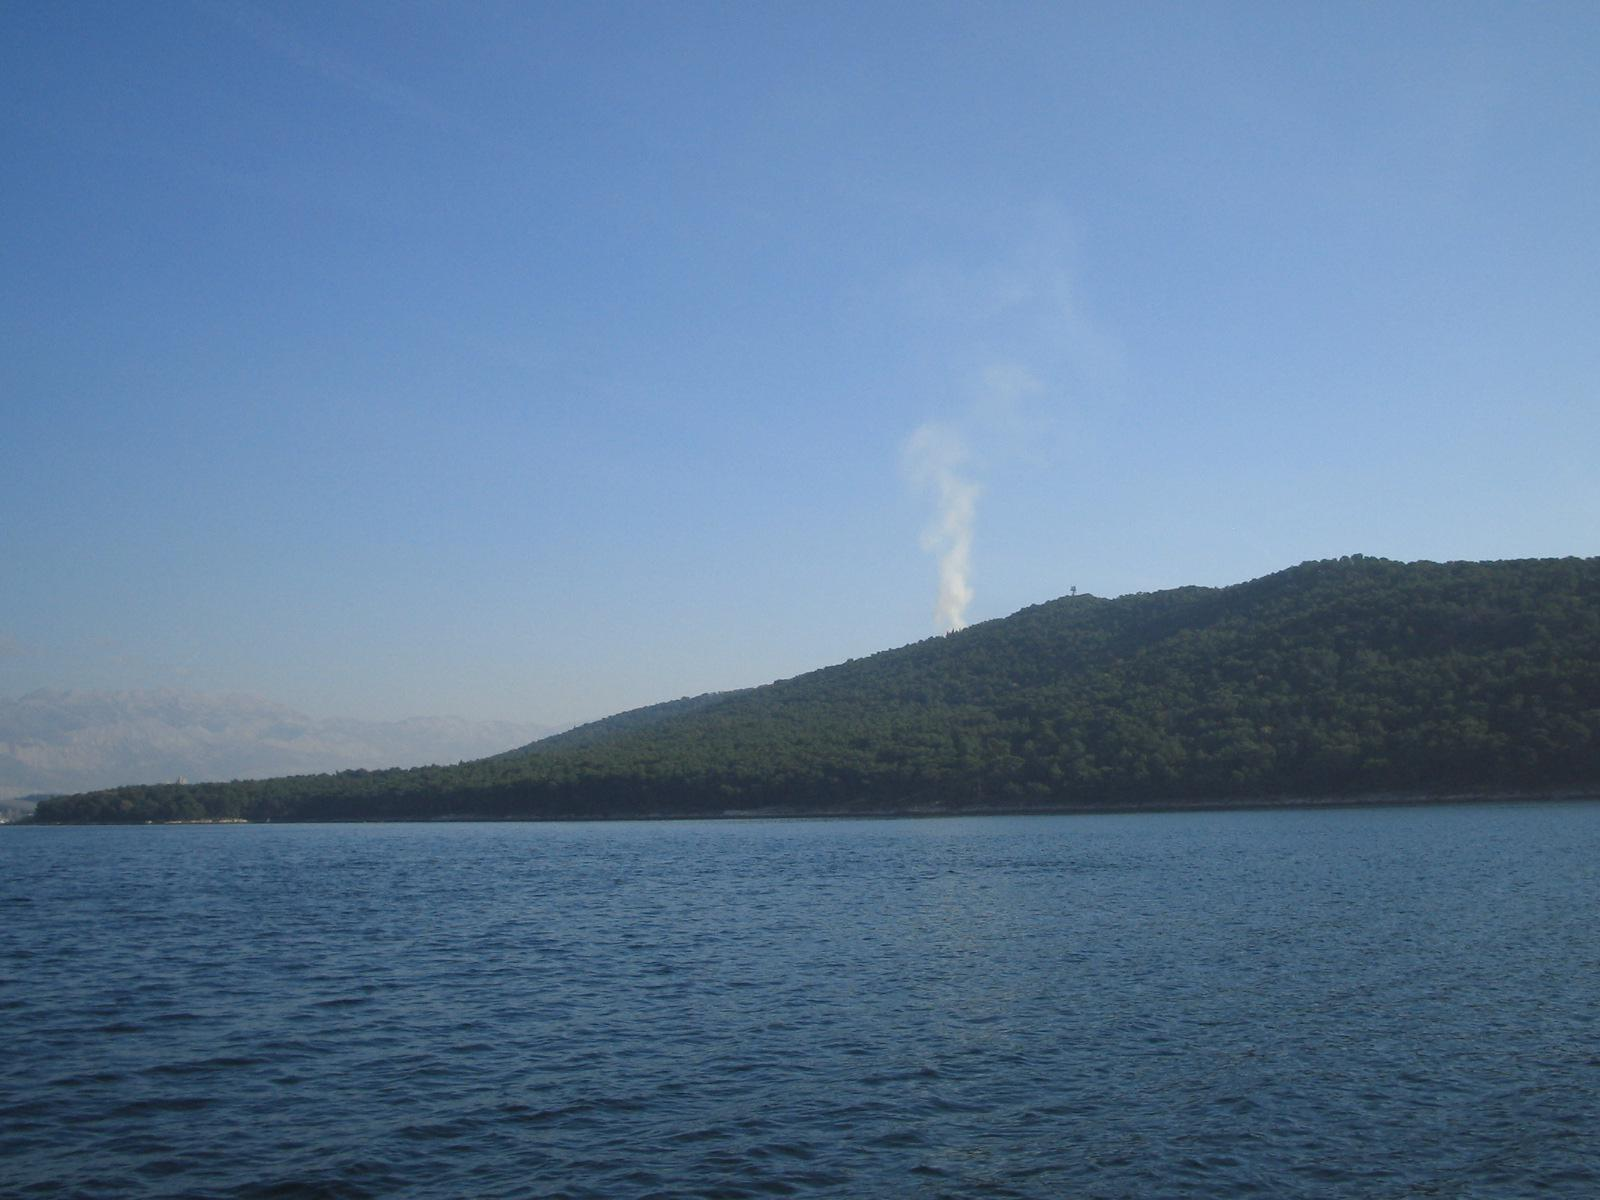Smoke: (900, 408, 1007, 640)
